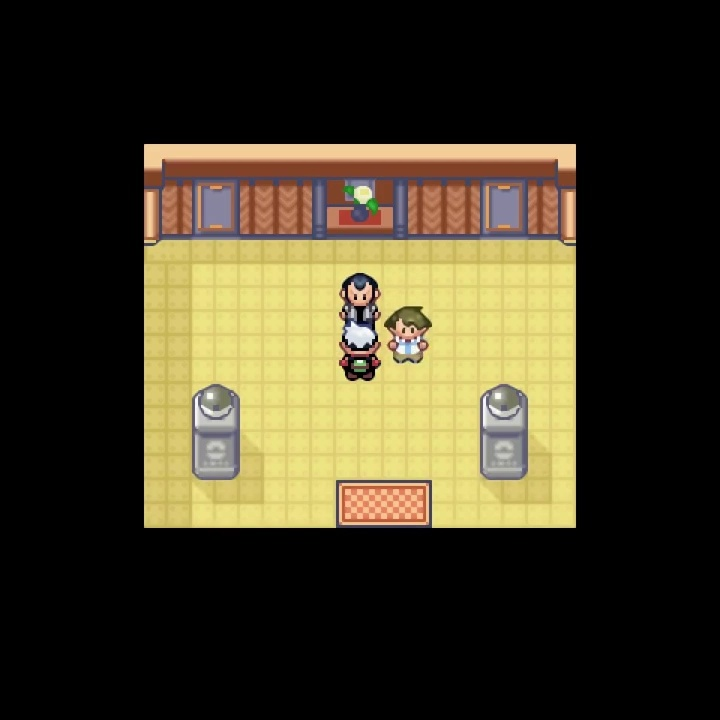exit: (333, 477, 434, 579)
npc: (381, 303, 433, 368), (337, 324, 383, 383), (336, 270, 382, 326)
